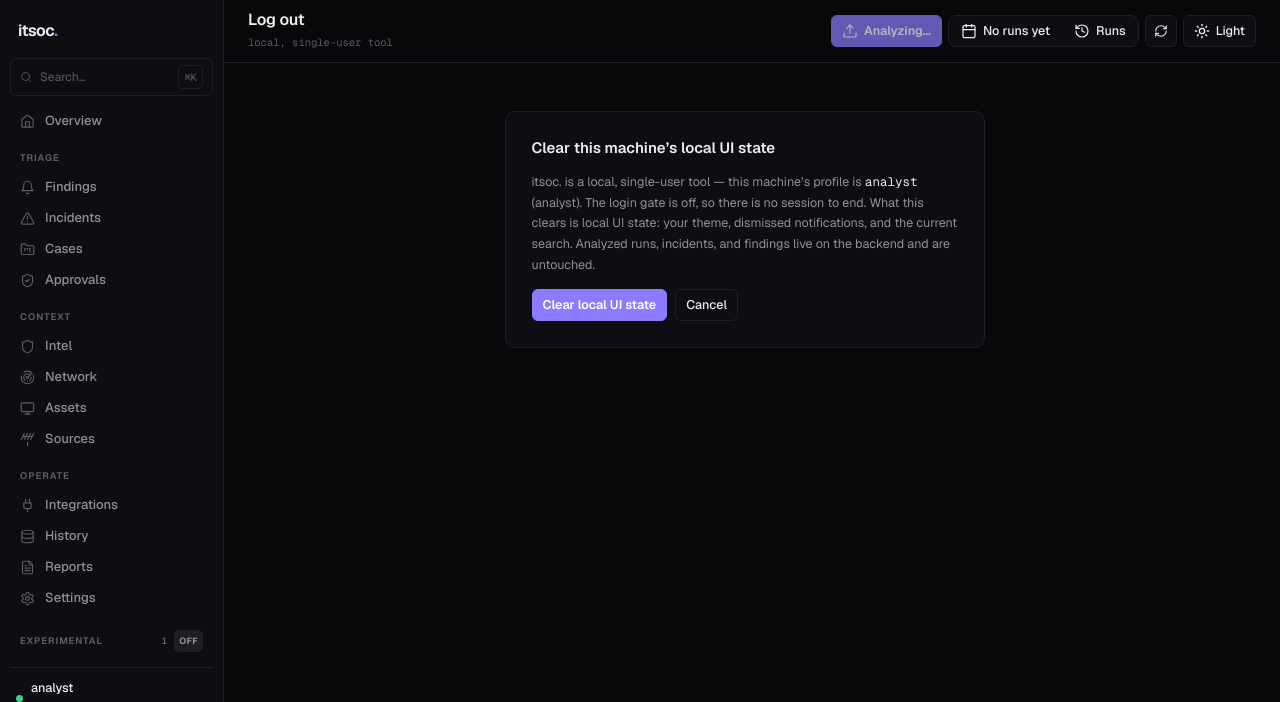
Test: Logout page (clears local UI state; login gate is off) › clears local UI state and local demo session on sign out
Click the button "Clear local UI state" at point(599, 305), box [532,289,667,321]
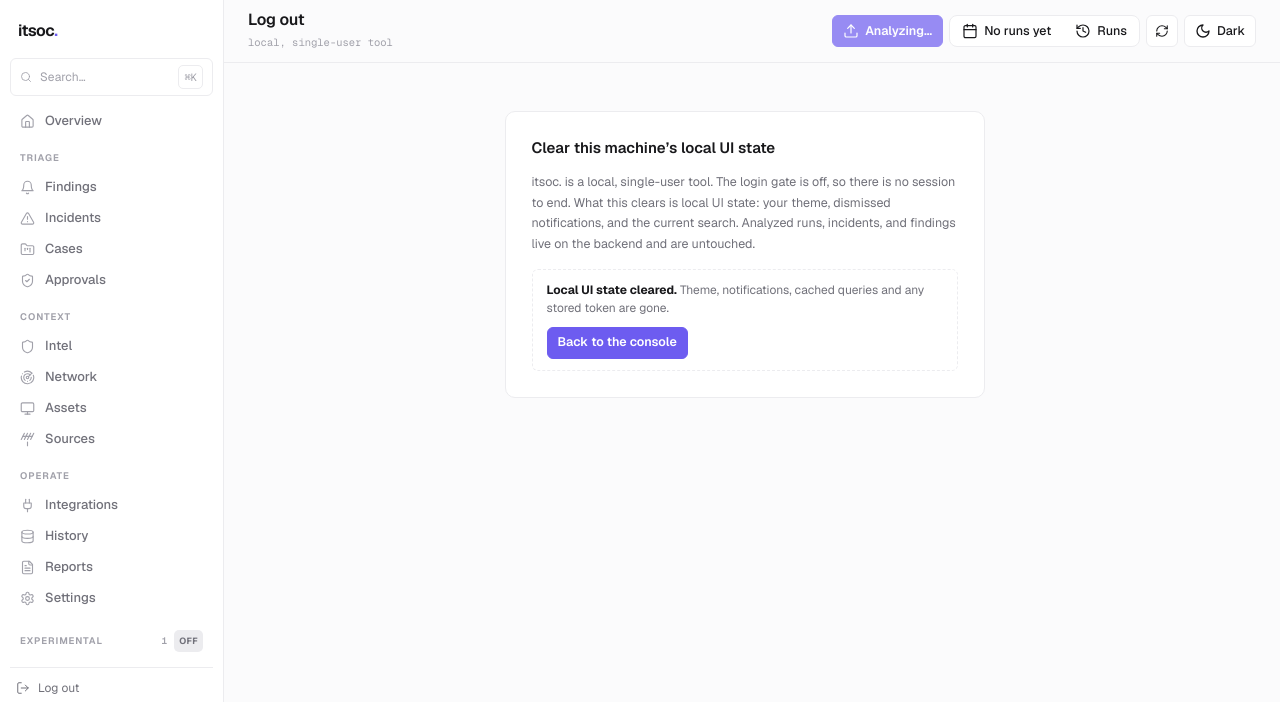
Now the text "Local UI state cleared." is shown, box [546,282,677,298]
